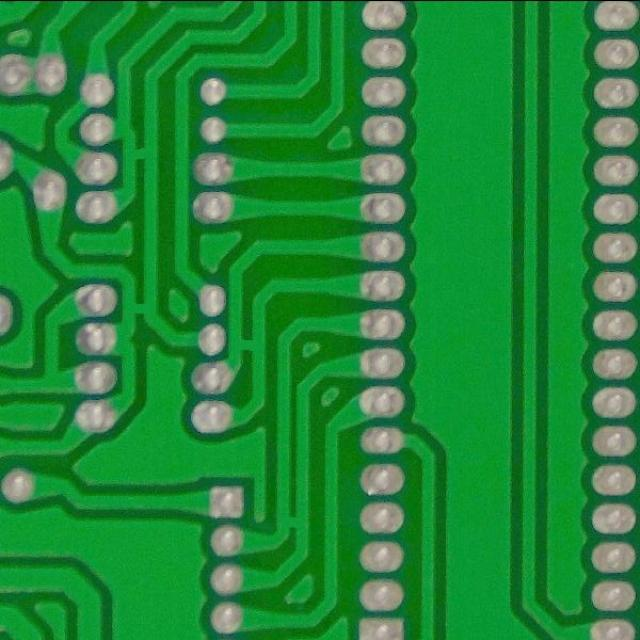Short_Circuit: (118, 135, 166, 173), (224, 327, 273, 364), (271, 504, 317, 541), (118, 292, 164, 326)
